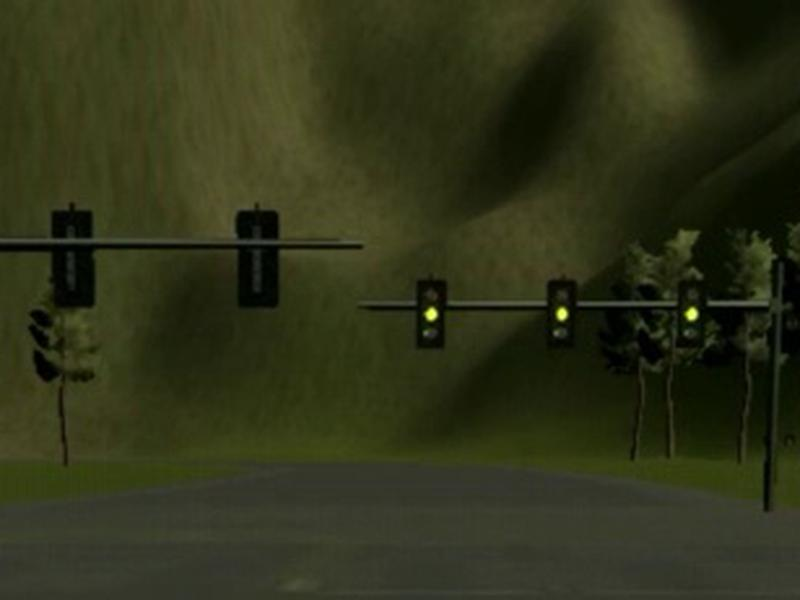Yellow: (416, 279, 447, 351), (677, 280, 706, 347), (549, 279, 577, 348)
